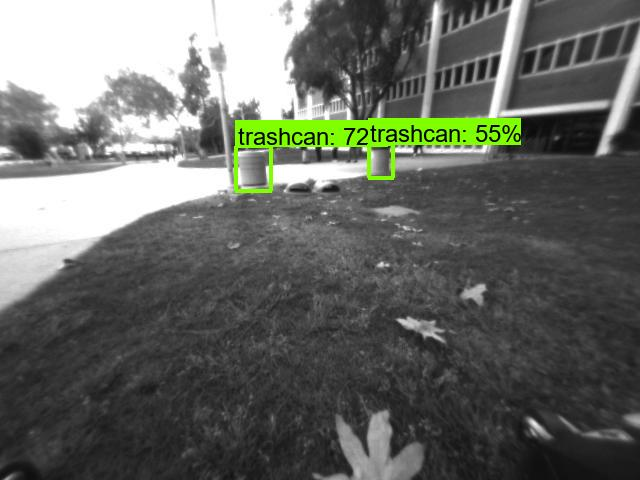trashcan: (237, 146, 270, 191), (366, 141, 394, 177)
